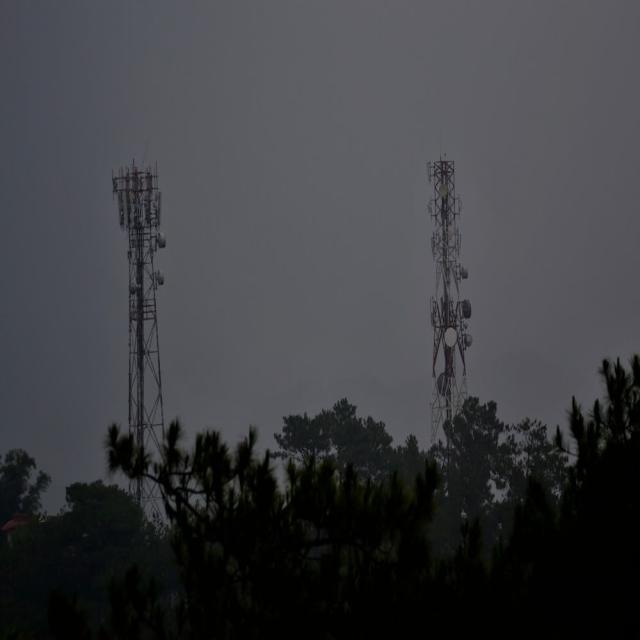transmission tower: (393, 142, 506, 430), (100, 148, 210, 406)
